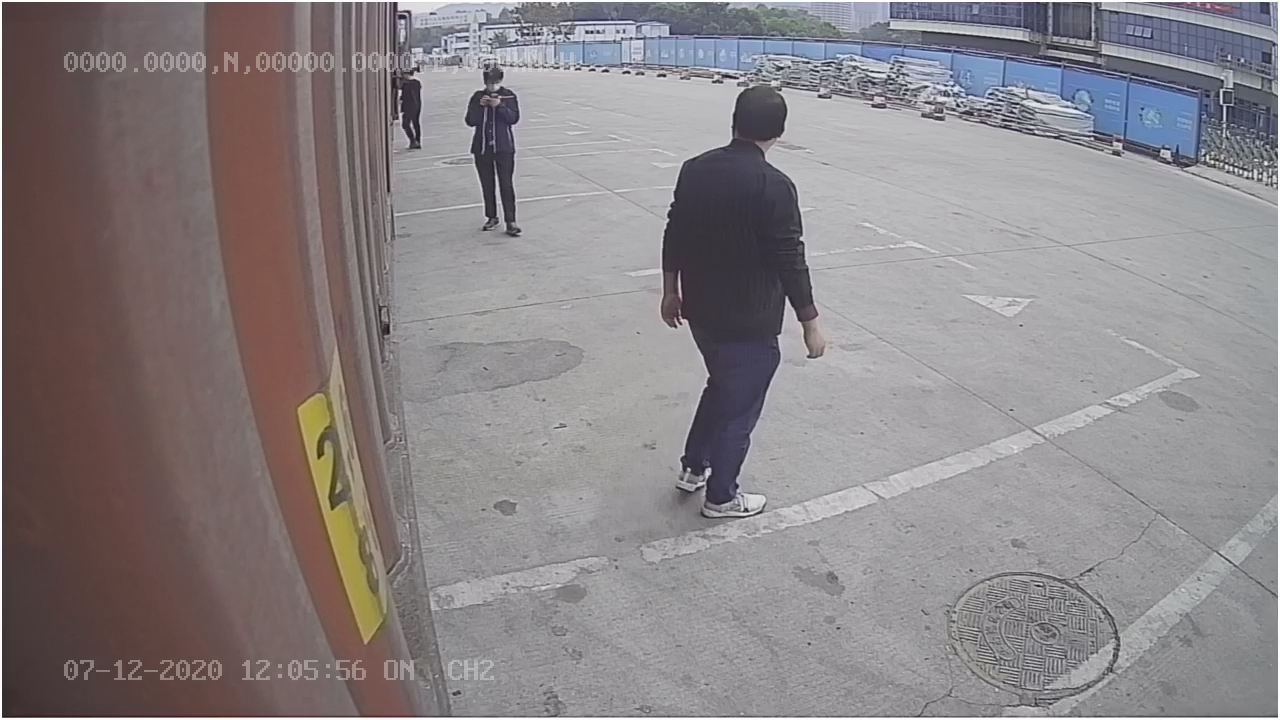person: (659, 84, 827, 516)
